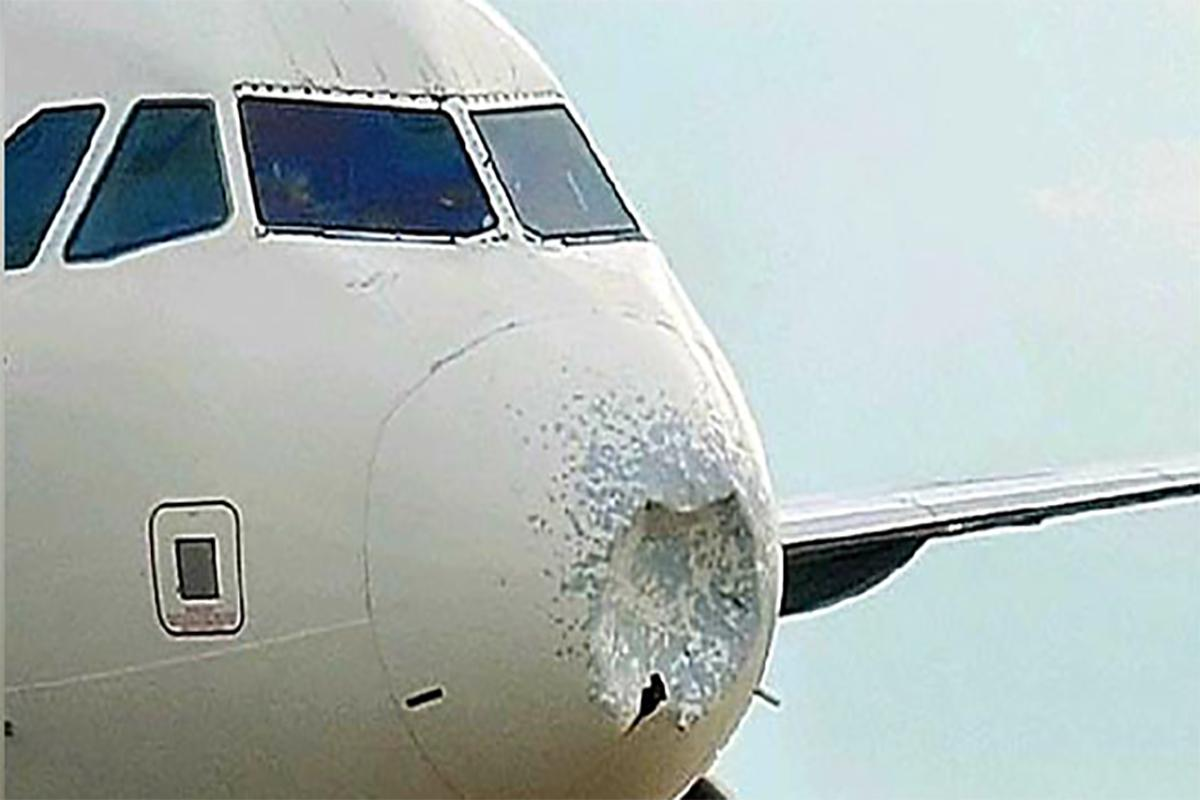Fuselage_damage: (546, 393, 775, 754)
